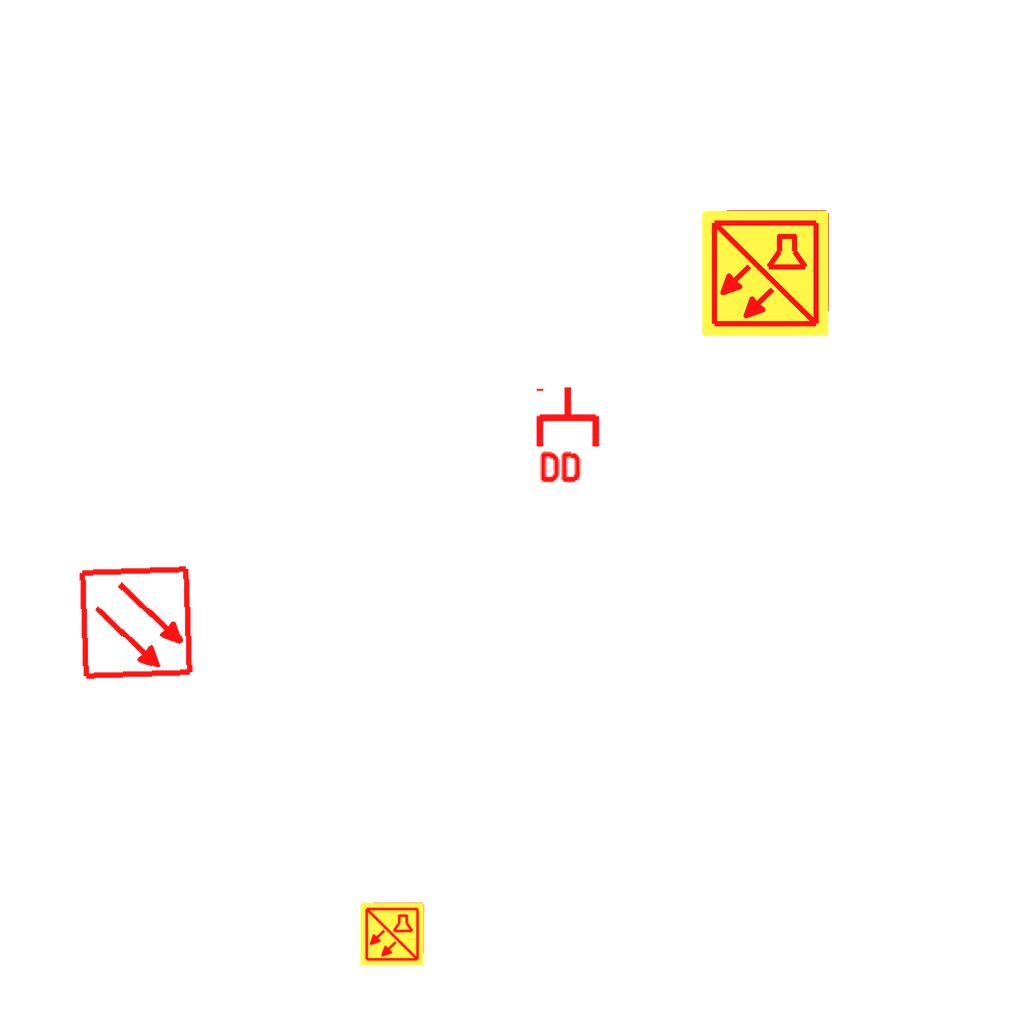Datenanschluss_zweifach: (535, 384, 604, 487)
OKW_Multisensormelder_(Kombination_optischer_Rauch-Kahlenmonoxid_Waerme-Melder): (699, 207, 831, 339), (359, 901, 425, 967)
RMO_Rauchmelder_optischer: (78, 564, 195, 681)
